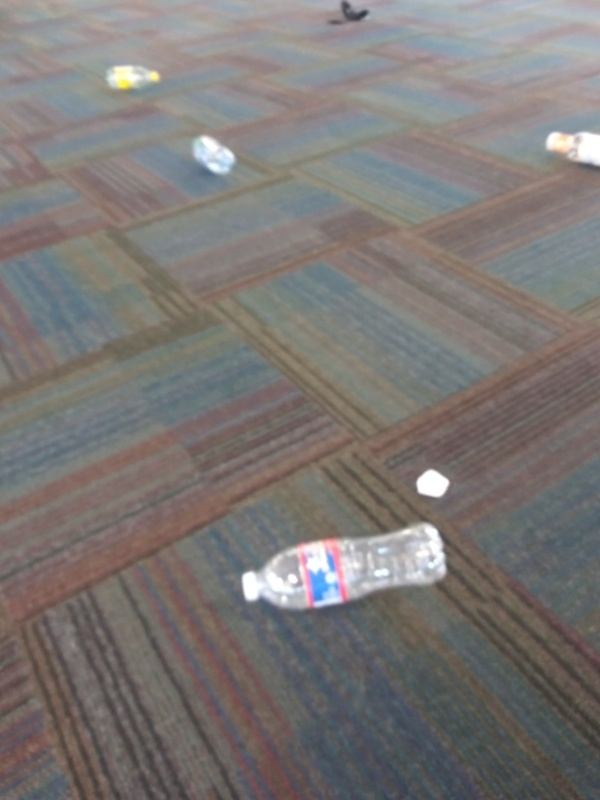bottle: (236, 519, 448, 616), (543, 126, 600, 173), (187, 130, 240, 178), (104, 61, 163, 92)
